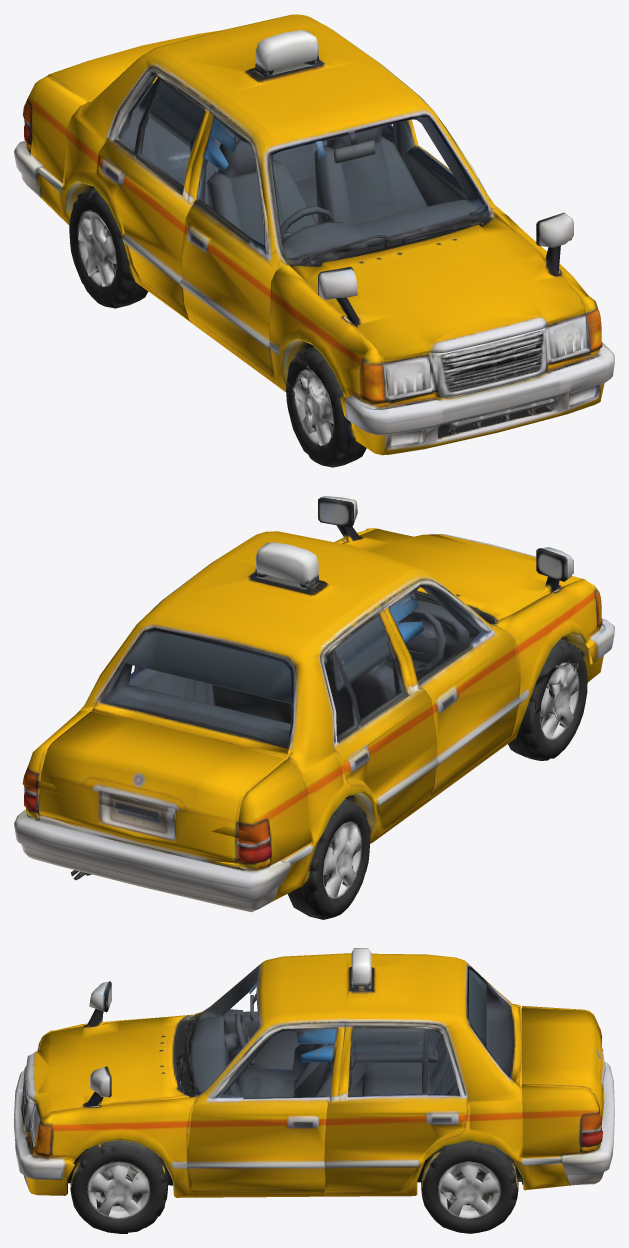
Rendered from taxi.glb.
3 views of the same model, one above another, from view 1: azimuth 30°, elevation 25°; view 2: azimuth 150°, elevation 25°; view 3: azimuth 270°, elevation 25° (orthographic). The views are drawn at different scales.
Parts seen in each view (by area): view 1: tripo_node_19fb1e60-f12f-4038-8ee6-9729c5ea69d2; view 2: tripo_node_19fb1e60-f12f-4038-8ee6-9729c5ea69d2; view 3: tripo_node_19fb1e60-f12f-4038-8ee6-9729c5ea69d2.
Part boxes in pixels (x1,y1,x2,y2): tripo_node_19fb1e60-f12f-4038-8ee6-9729c5ea69d2: [14, 14, 614, 467]; tripo_node_19fb1e60-f12f-4038-8ee6-9729c5ea69d2: [14, 496, 614, 919]; tripo_node_19fb1e60-f12f-4038-8ee6-9729c5ea69d2: [14, 948, 614, 1233].
Bounding box in the file's own units: 0.3927 × 0.4195 × 0.9789.
1 material, 1 textured.
